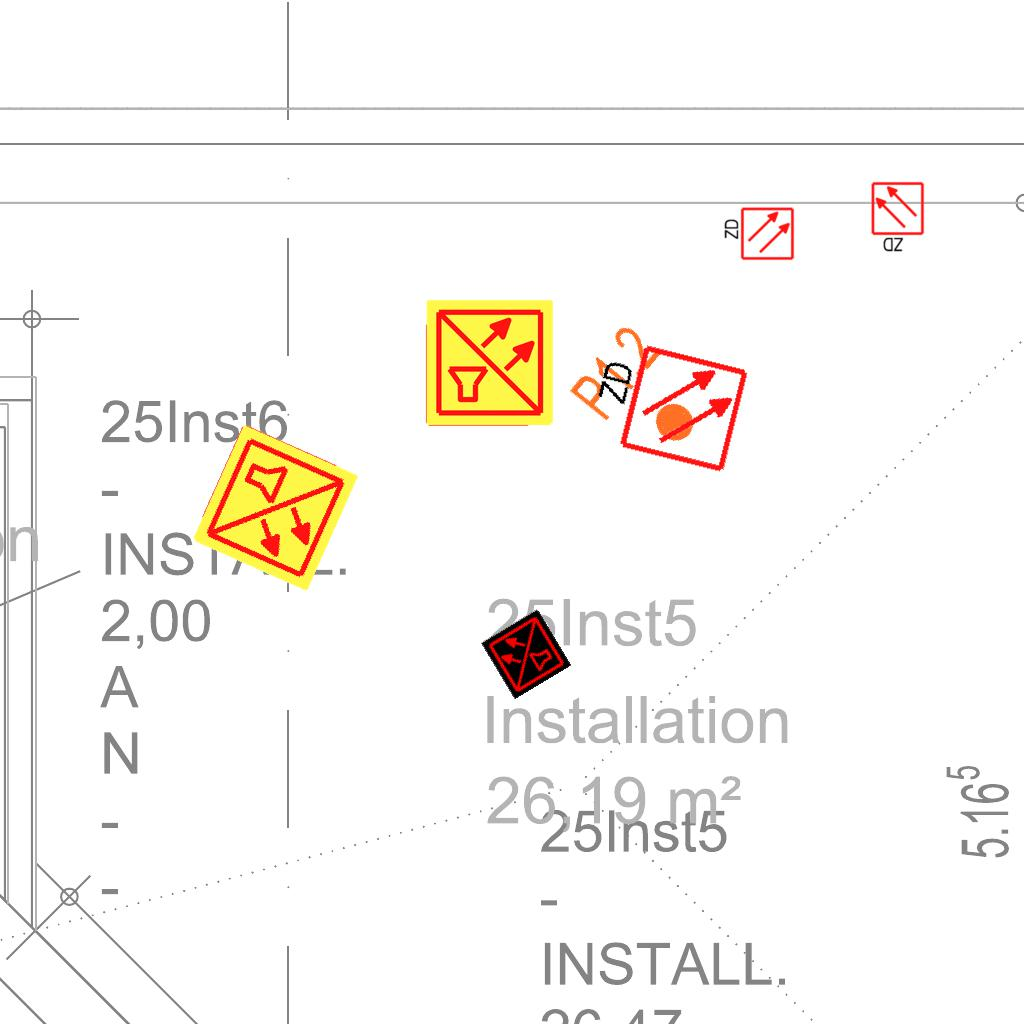Downlight_LED_Einbauleuchten_Flur: (564, 318, 723, 472)
OKW_Multisensormelder_(Kombination_optischer_Rauch-Kahlenmonoxid_Waerme-Melder): (187, 420, 363, 596), (424, 297, 556, 429), (480, 608, 572, 700)
ZD_Melder_in_Zwischendecke_mit_Revisionsoeffnung_mind_40_x_40_cm: (578, 332, 752, 479), (721, 206, 795, 263), (870, 181, 927, 255)
